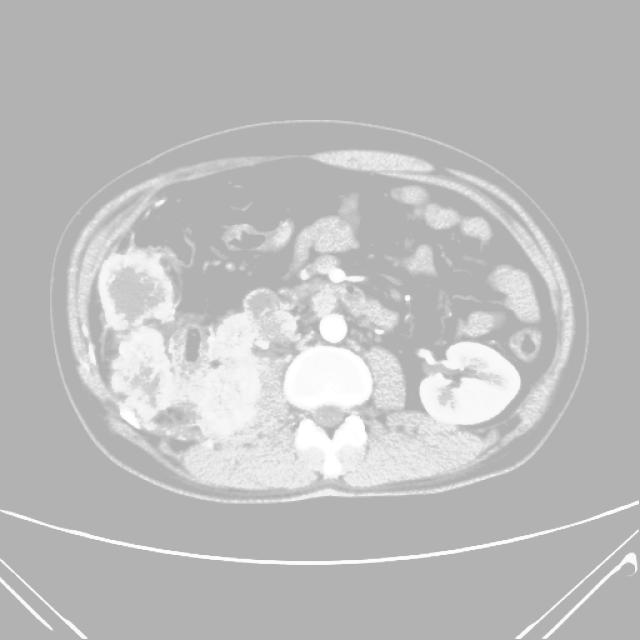TUMOR: (68, 196, 538, 486)
